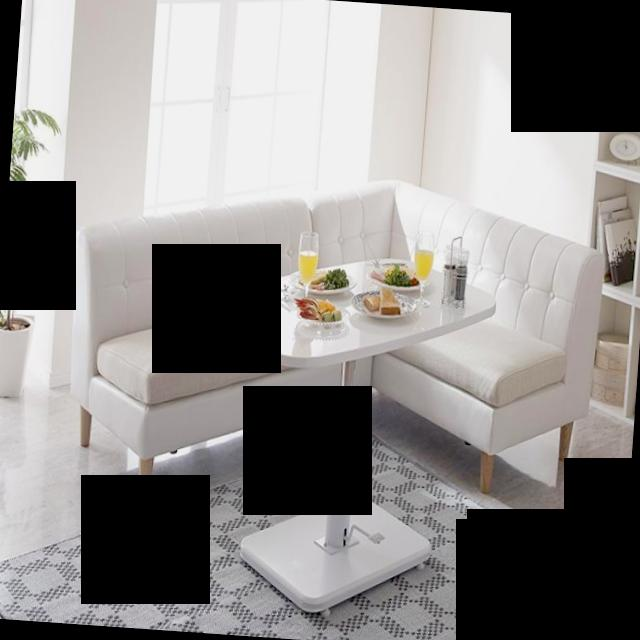white sofa: (72, 157, 599, 548)
